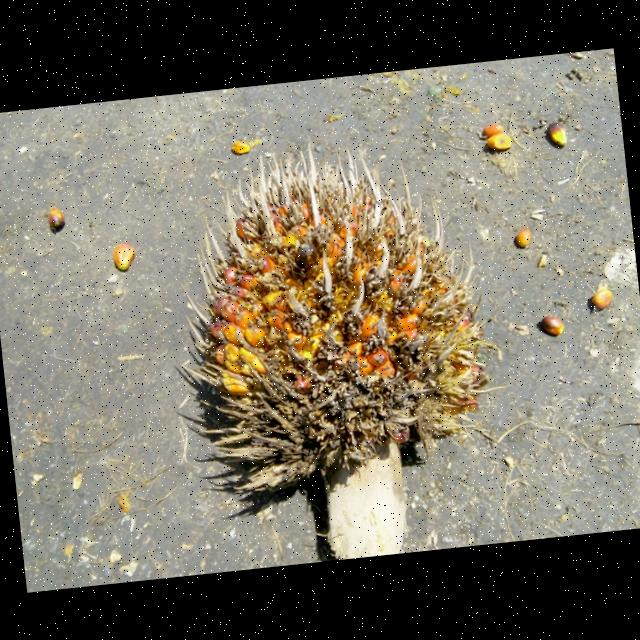Ripe: (183, 170, 486, 485)
